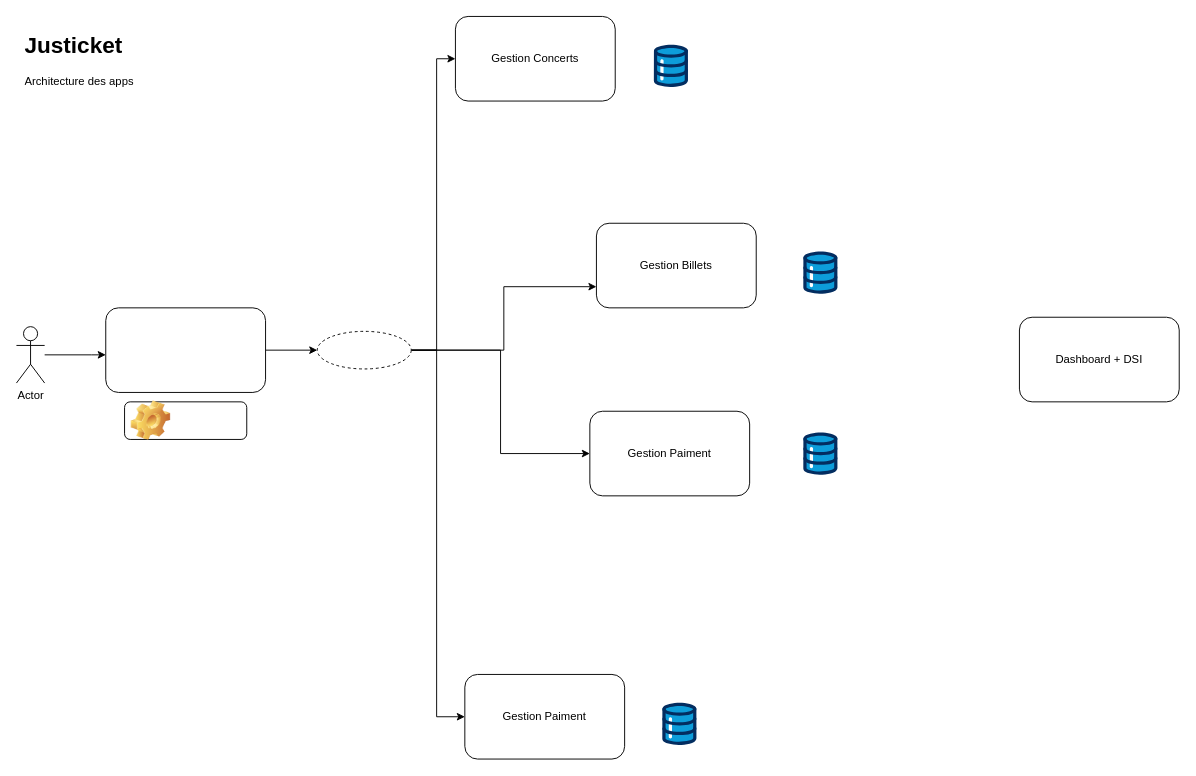
The diagram is 1196 pixels wide and 776 high, and some of its shapes have lost their labels. The shapes that lost their labels are listed below. From the top down, each one's centre as x and y in pixels, then its label:
the point at 185,349: Web App
the point at 363,349: API Gateway
the point at 185,420: React/ TypeScript
